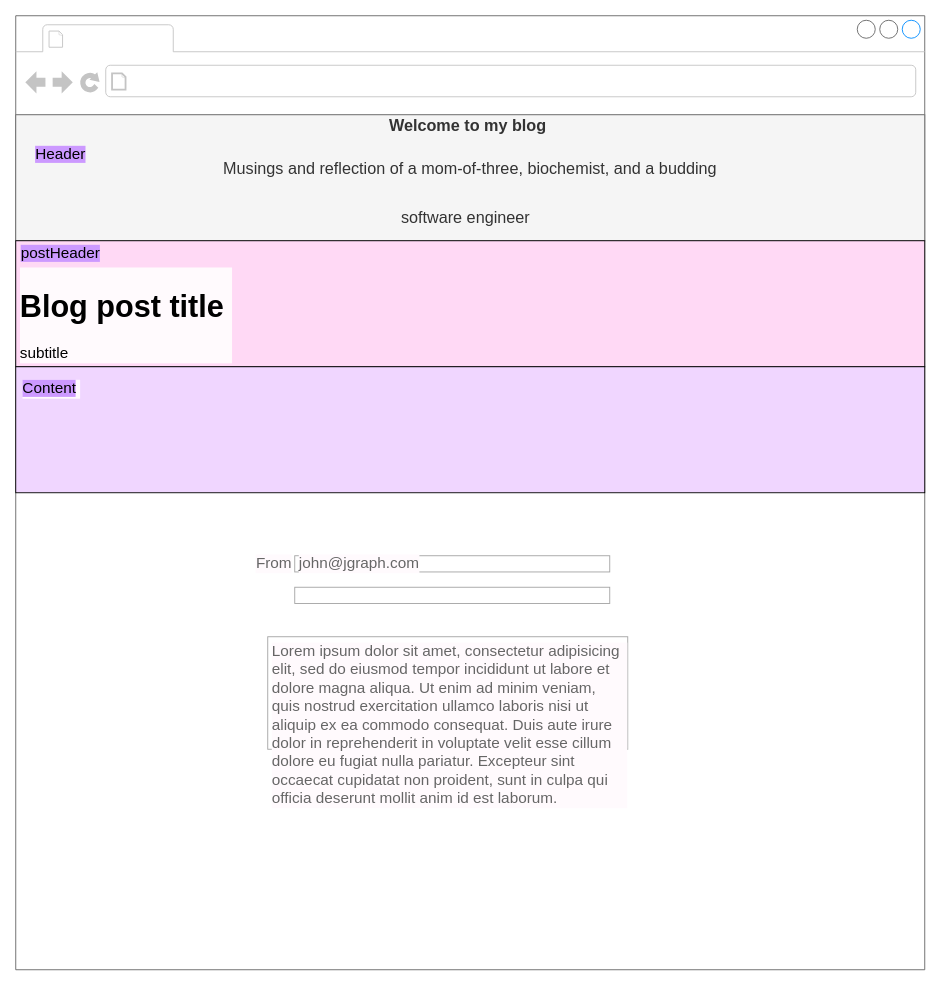
Image size: 941x986. Some labels were removed from this diagram. Each missing label, with the centre of its shape:
"https://www.myblog.com/myblog" belongs at [245,81].
"My Blog" belongs at [119,38].
